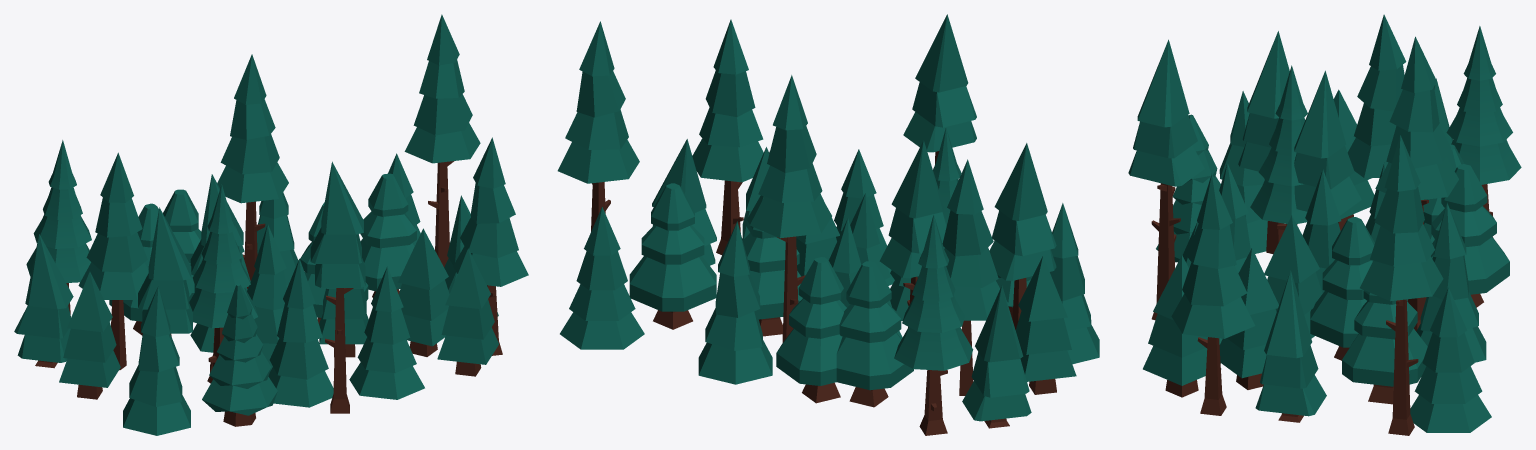
Rendered from trees_2.fbx.
3 views of the same model, side by side, from view 1: azimuth 30°, elevation 25°; view 2: azimuth 150°, elevation 25°; view 3: azimuth 270°, elevation 25° (orthographic). The views are drawn at different scales.
Visible parts, largest first — view 1: mergedBlocks; view 2: mergedBlocks; view 3: mergedBlocks.
Part boxes in pixels (x1,y1,x2,y2): mergedBlocks: [14, 14, 528, 435]; mergedBlocks: [557, 14, 1099, 435]; mergedBlocks: [1128, 14, 1521, 435].
Size of the model in its own units: 36.2 by 20.75 by 25.08.
